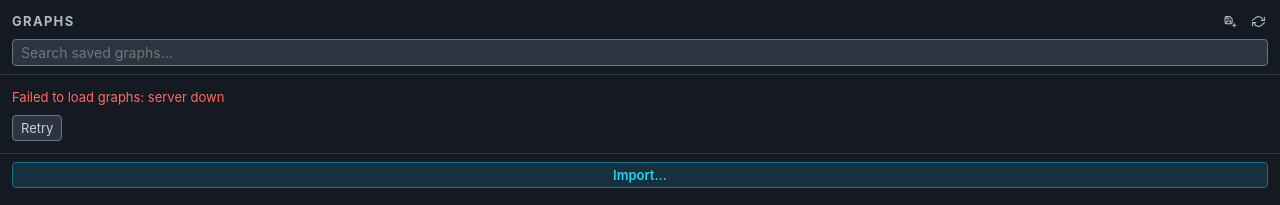
Test: GraphsTab list › reports a failed list read and retries it
Expected: the text "Failed to load graphs: server down" is shown, x1=12 y1=89 x2=224 y2=105
Click the button "Retry": (37, 128) x1=12 y1=115 x2=62 y2=141
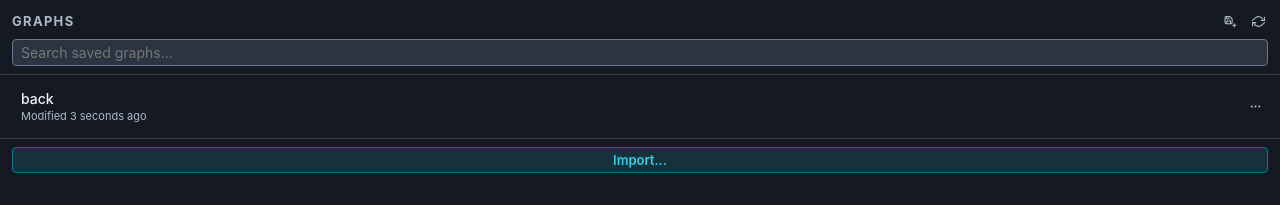
Expected: the button with aria-label "Open back" is shown, x1=9 y1=82 x2=1243 y2=131
